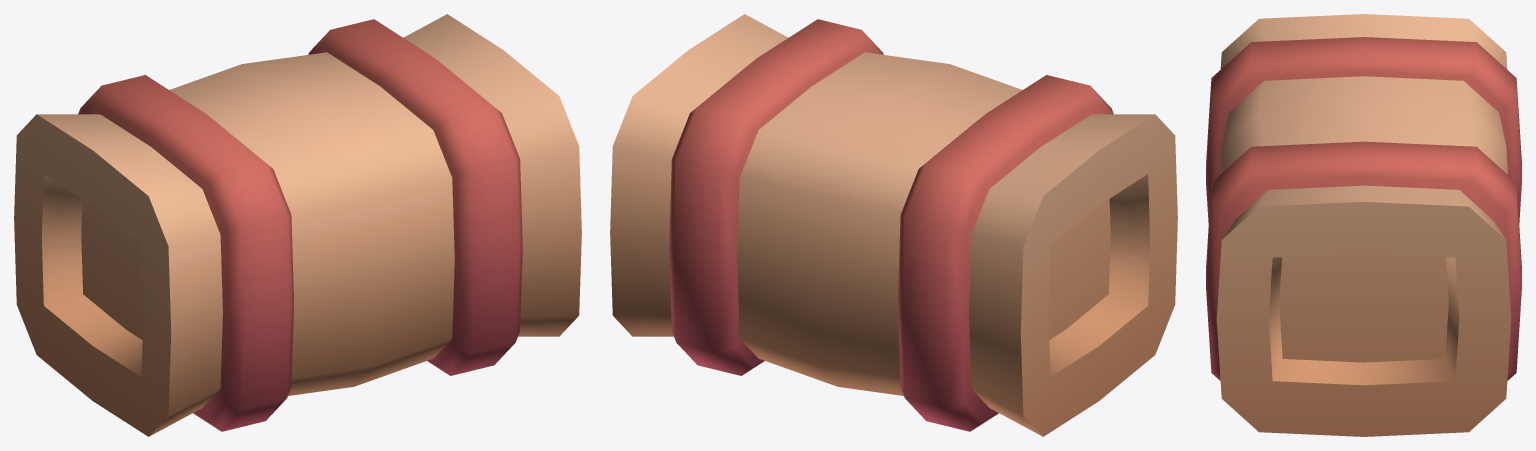
The model's file is hay-bale-bundled.glb.
3 renders of one model, left to right at view 1: azimuth 30°, elevation 25°; view 2: azimuth 150°, elevation 25°; view 3: azimuth 270°, elevation 25°, orthographic. The views are drawn at different scales.
Parts seen in each view (by area): view 1: hay-bale-bundled; view 2: hay-bale-bundled; view 3: hay-bale-bundled.
Part boxes in pixels (<box>): hay-bale-bundled: <box>14,14,581,436</box>; hay-bale-bundled: <box>610,14,1177,436</box>; hay-bale-bundled: <box>1206,14,1521,436</box>.
Bounding box in the file's own units: 0.6066 × 0.3798 × 0.4312.
1 material, 1 textured.
